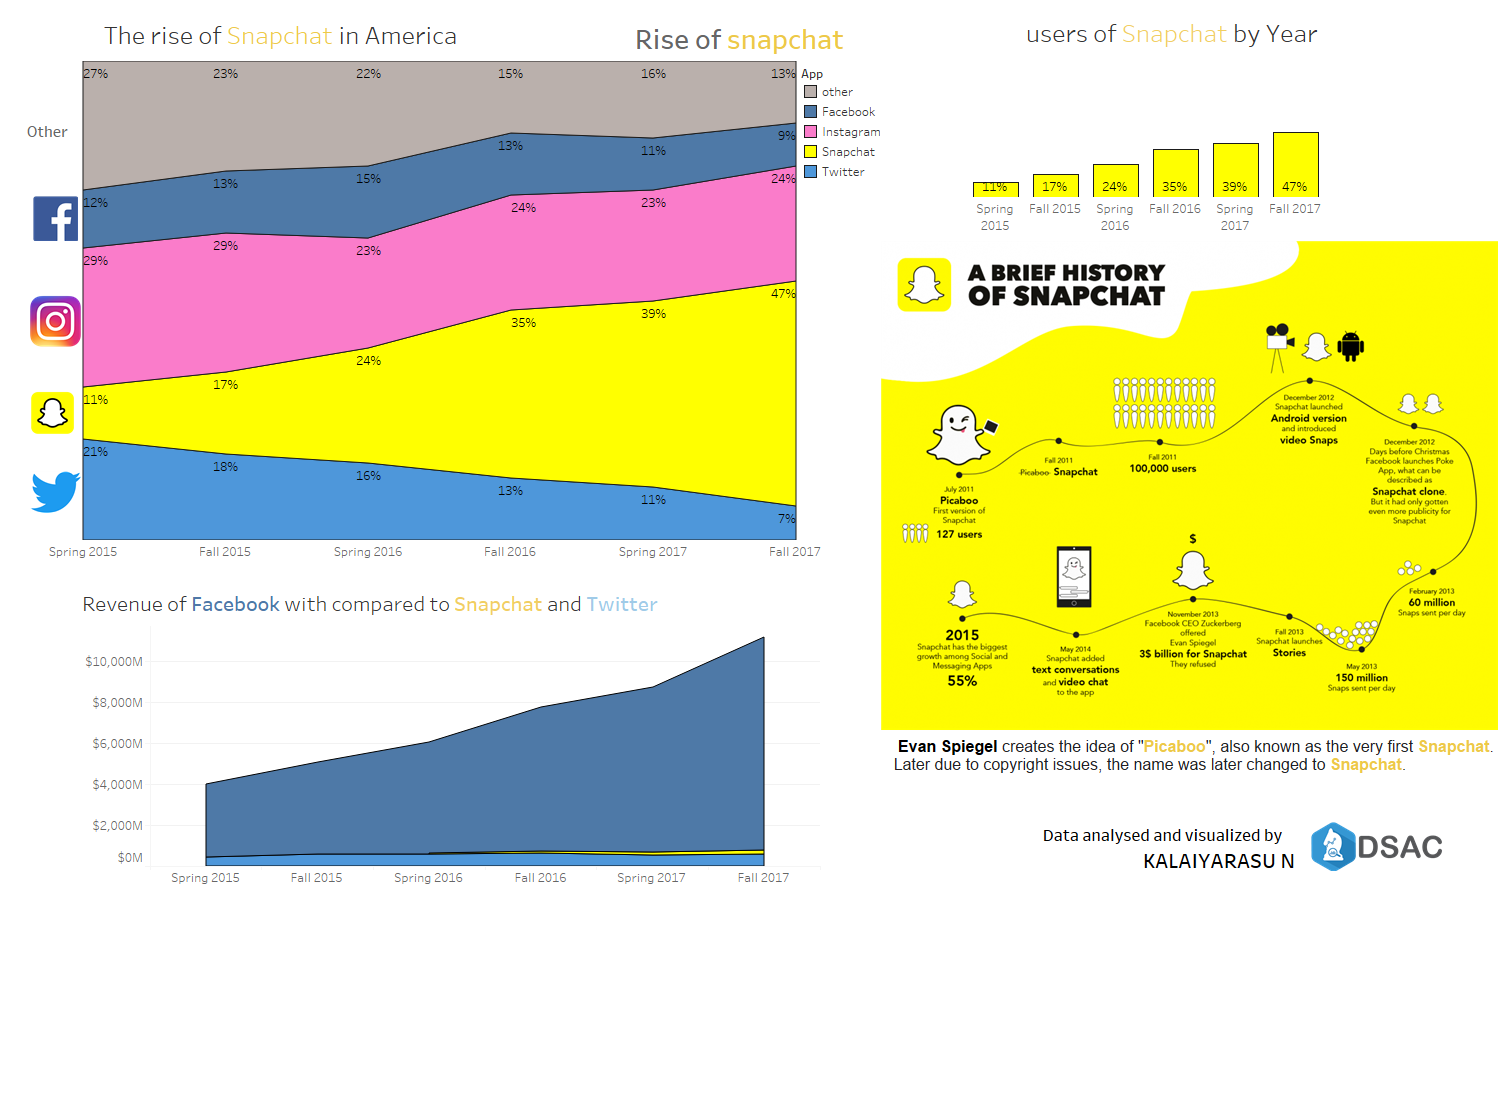

What the dashboard file says about the page in this screenshot:
{"tool":"tableau","page":{"name":"Rise of Snapchat","canvas":[1500,1100],"ordinal":0},"visuals":[{"type":"text","box":[632,6,378,65]},{"type":"worksheet","title":"The rise and rise of snapchat","mark":"Area","rows":["% of Teens"],"cols":["Survey Date"],"box":[8,8,863,1084]},{"type":"legend","title":"The rise and rise of snapchat","param":"[federated.1ru094k08wz5hk11tlivj10rf2ih].[none:App:nk]","box":[800,63,140,118]},{"type":"text","box":[24,110,101,42]},{"type":"image","param":"Image/fb-art.png","box":[33,196,56,45]},{"type":"image","param":"Image/a-brief-history-of-snapchat-961x1024-2 (2).png","box":[881,241,617,493]},{"type":"image","param":"Image/ig-logo-email.png","box":[29,295,55,52]},{"type":"image","param":"Image/Snapchat-logo.png","box":[13,391,78,56]},{"type":"image","param":"Image/download.png","box":[30,471,51,47]},{"type":"worksheet","title":"Facebook ","mark":"Area","rows":["Revenue"],"cols":["Survey Date"],"box":[78,583,742,305]},{"type":"text","box":[891,732,613,48]},{"type":"text","box":[1040,824,258,50]}]}

Visuals, with their boxes in screenshot pixels (x1, y1, x2, y2), scaled from the page's 1500x1100 canvas onto the 1500x1100 screenshot:
text: (632,6,1010,71)
"The rise and rise of snapchat" worksheet (Area marks): (8,8,871,1092)
"The rise and rise of snapchat" legend: (800,63,940,181)
text: (24,110,125,152)
image: (33,196,89,241)
image: (881,241,1498,734)
image: (29,295,84,347)
image: (13,391,91,447)
image: (30,471,81,518)
"Facebook " worksheet (Area marks): (78,583,820,888)
text: (891,732,1499,780)
text: (1040,824,1298,874)
